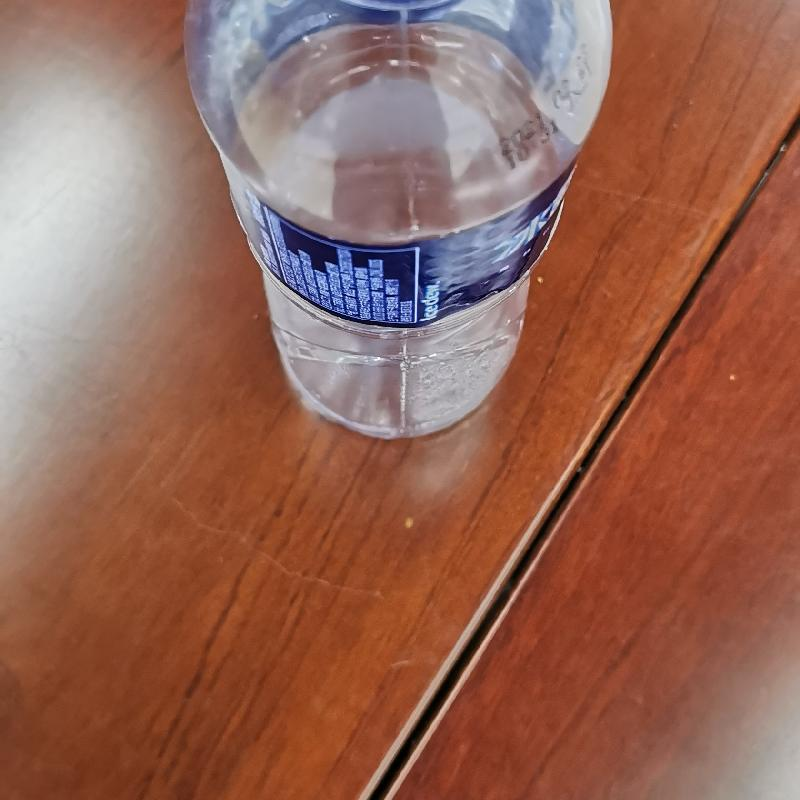bottles: (180, 1, 616, 445)
